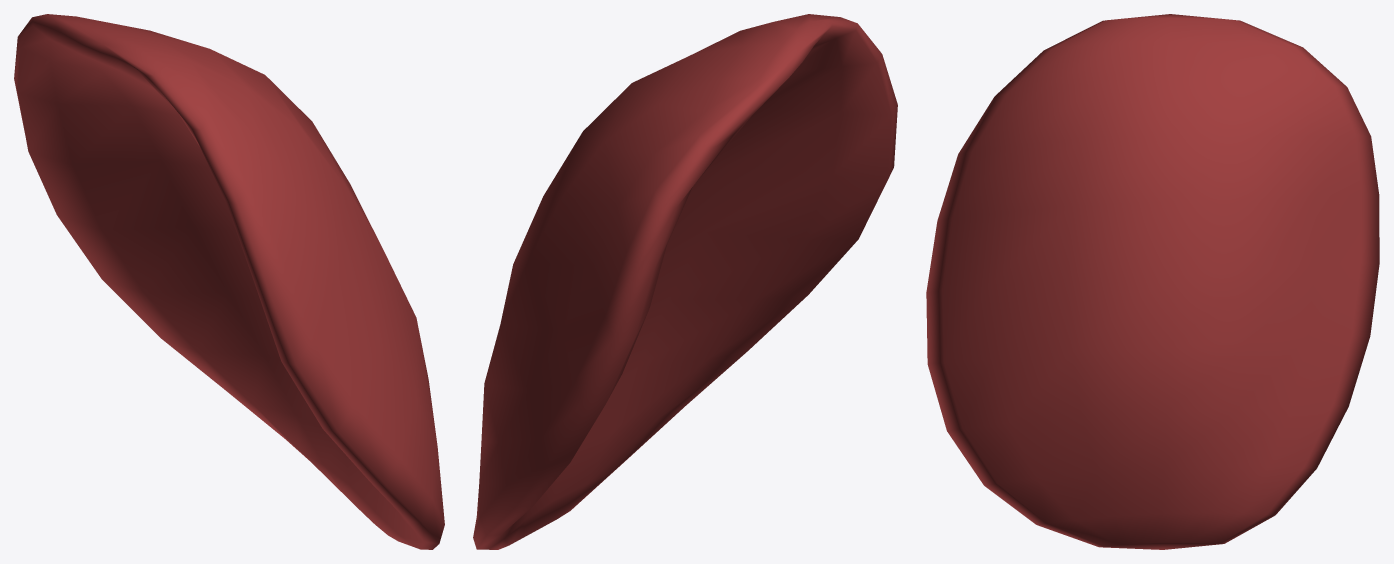
Rendered from trochanteric-bursa-of-gluteus-minimus-muscle-l.glb.
The picture shows the model from 3 angles, left to right: view 1: azimuth 30°, elevation 25°; view 2: azimuth 150°, elevation 25°; view 3: azimuth 270°, elevation 25°; orthographic projection. The views are drawn at different scales.
Parts seen in each view (by area): view 1: Trochanteric bursa of gluteus minimus muscle.l; view 2: Trochanteric bursa of gluteus minimus muscle.l; view 3: Trochanteric bursa of gluteus minimus muscle.l.
Part boxes in pixels (left/top/right/bottom): Trochanteric bursa of gluteus minimus muscle.l: left=14, top=14, right=444, bottom=549; Trochanteric bursa of gluteus minimus muscle.l: left=473, top=14, right=897, bottom=549; Trochanteric bursa of gluteus minimus muscle.l: left=926, top=14, right=1379, bottom=549.
Size of the model in its own units: 0.0121 by 0.0207 by 0.0196.
